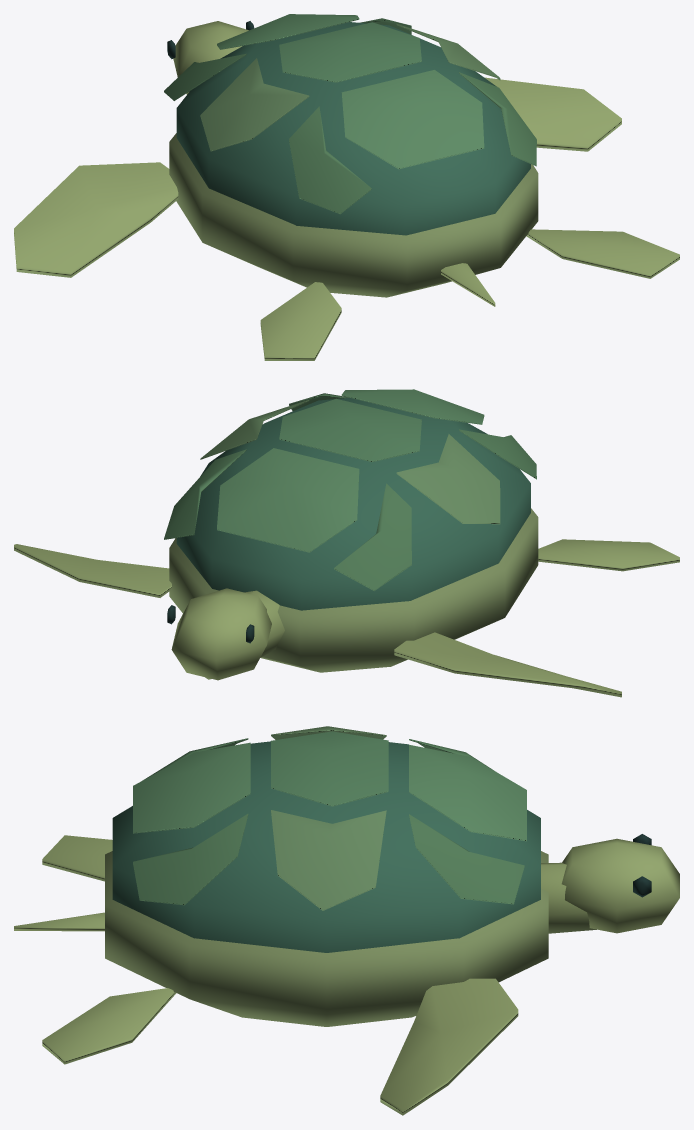
File: turtle.glb
3 renders of one model, top to bottom at view 1: azimuth 30°, elevation 25°; view 2: azimuth 150°, elevation 25°; view 3: azimuth 270°, elevation 25°, orthographic. The views are drawn at different scales.
Parts seen in each view (by area): view 1: body_surface, anim_flipper_L_surface, anim_flipper_R_surface, anim_tail_surface; view 2: body_surface, anim_flipper_L_surface, anim_flipper_R_surface; view 3: body_surface, anim_flipper_R_surface, anim_tail_surface.
Boxes of the visible parts, x1,y1,x2,y2 form: body_surface: (164, 14, 679, 360); anim_flipper_L_surface: (14, 162, 178, 277); anim_flipper_R_surface: (485, 77, 621, 151); anim_tail_surface: (441, 263, 495, 306); body_surface: (164, 389, 679, 680); anim_flipper_L_surface: (394, 632, 621, 697); anim_flipper_R_surface: (14, 544, 171, 597); body_surface: (42, 726, 679, 1064); anim_flipper_R_surface: (380, 978, 518, 1115); anim_tail_surface: (14, 912, 104, 931).
Bounding box in the file's own units: 1.39 × 0.4853 × 1.2.
